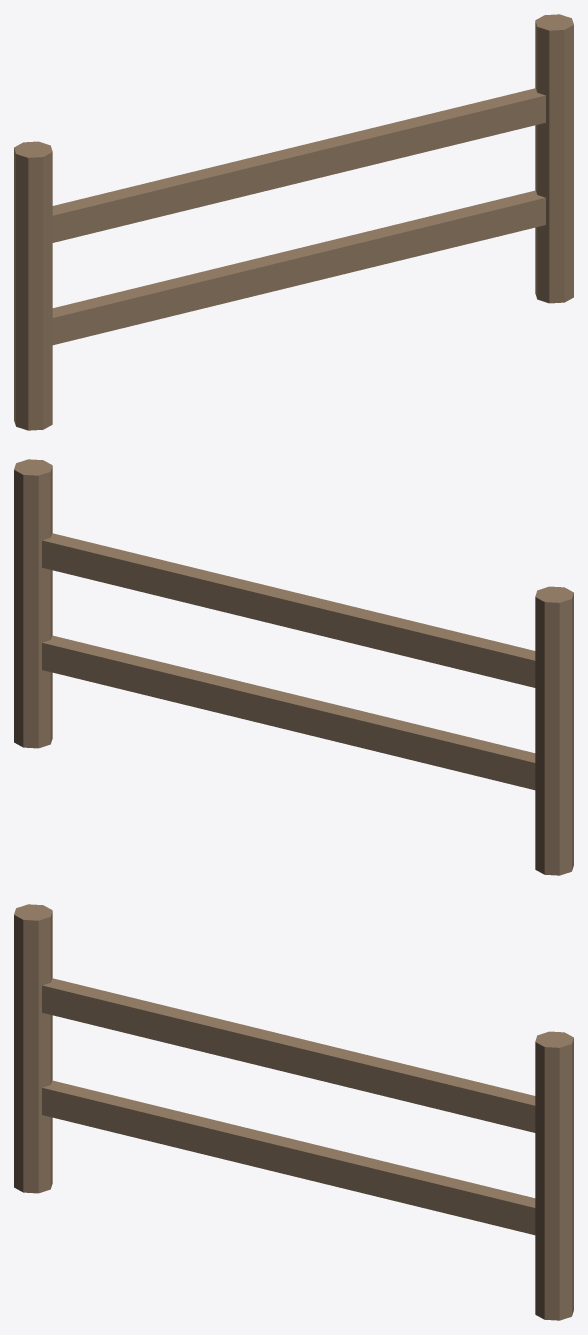
The model's file is wooden_fence.glb.
3 renders of one model, top to bottom at view 1: azimuth 30°, elevation 25°; view 2: azimuth 150°, elevation 25°; view 3: azimuth 330°, elevation 25°, orthographic.
Visible parts, largest first — view 1: WoodenFence; view 2: WoodenFence; view 3: WoodenFence.
Boxes of the visible parts, <box> form: WoodenFence: <box>14,14,573,430</box>; WoodenFence: <box>14,459,573,875</box>; WoodenFence: <box>14,904,573,1320</box>.
Size of the model in its own units: 2.56 by 1.2 by 0.16.
